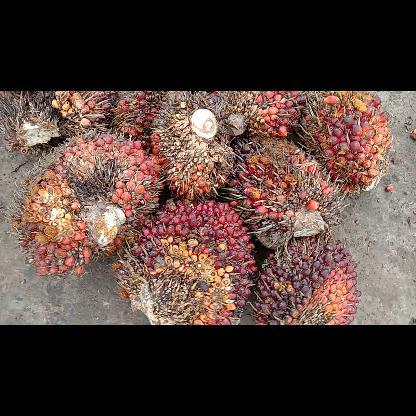TBS masak: (12, 132, 164, 274), (114, 198, 248, 322), (224, 134, 350, 247), (118, 91, 233, 193), (298, 93, 392, 195), (260, 233, 364, 324), (222, 92, 304, 139)
